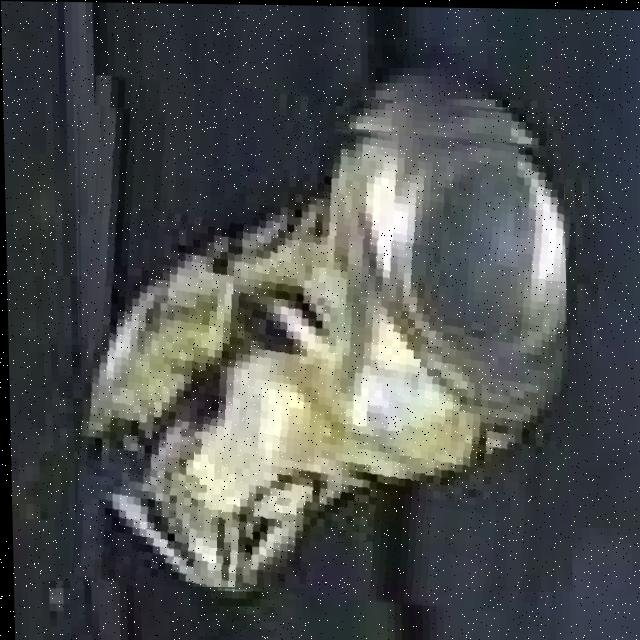litter: (77, 133, 565, 585)
